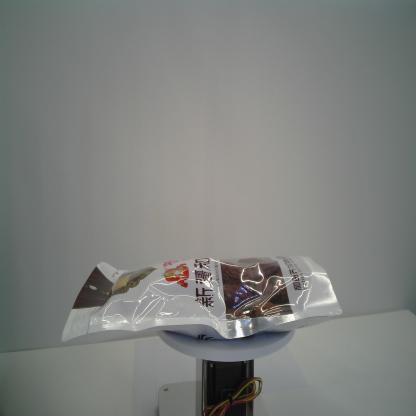Dried Food: (60, 252, 343, 342)
